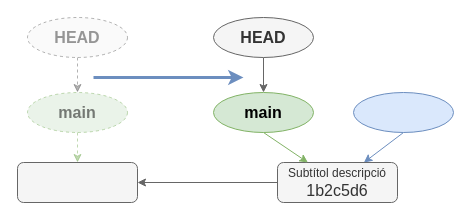
The diagram is 471 pixels wide and 220 high, and some of its shapes have lost their labels. Here are the shapes that lost their labels. From the top down, the centre of each, then its label:
At (403,112): "desc".
At (77,182): "Títol 0b1b3b4".
